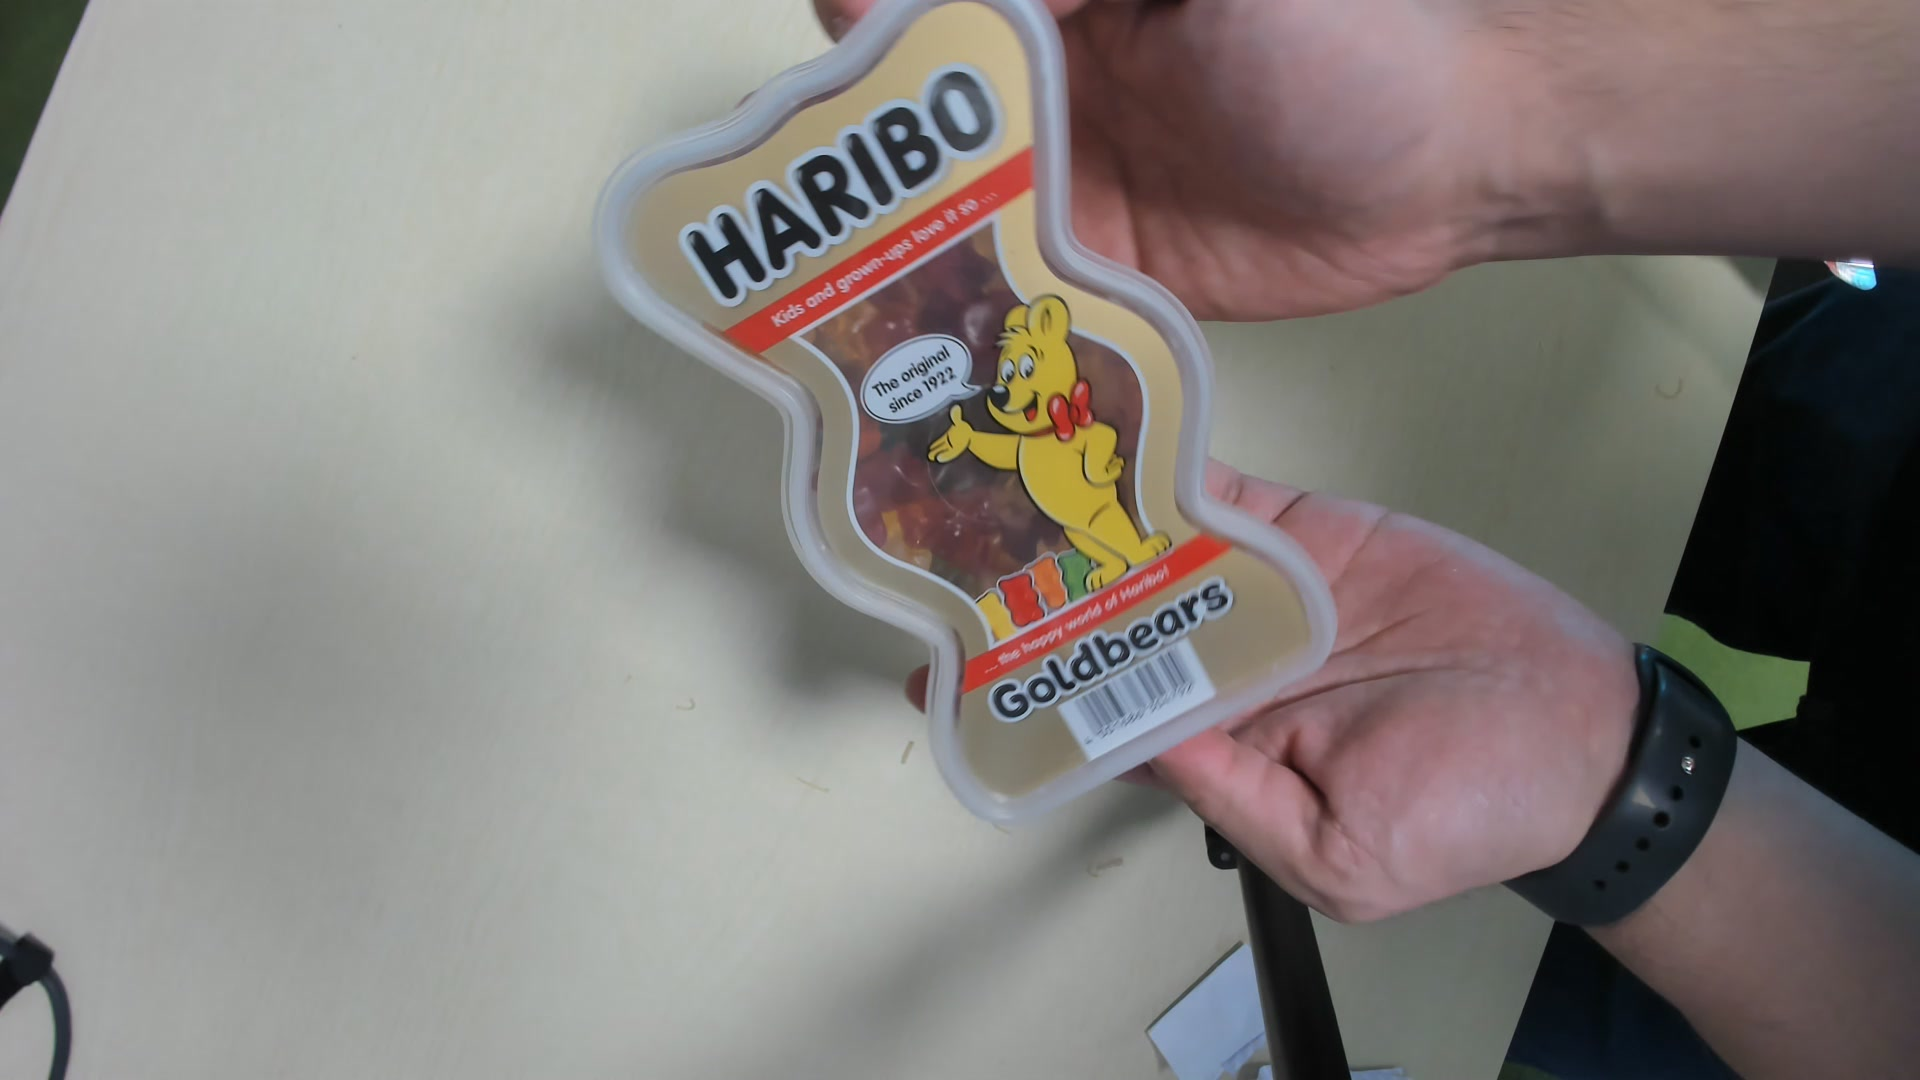SweetsChocolatesOthers_400-499g_NonHalal_Nonhealthy: (589, 7, 1327, 825)
